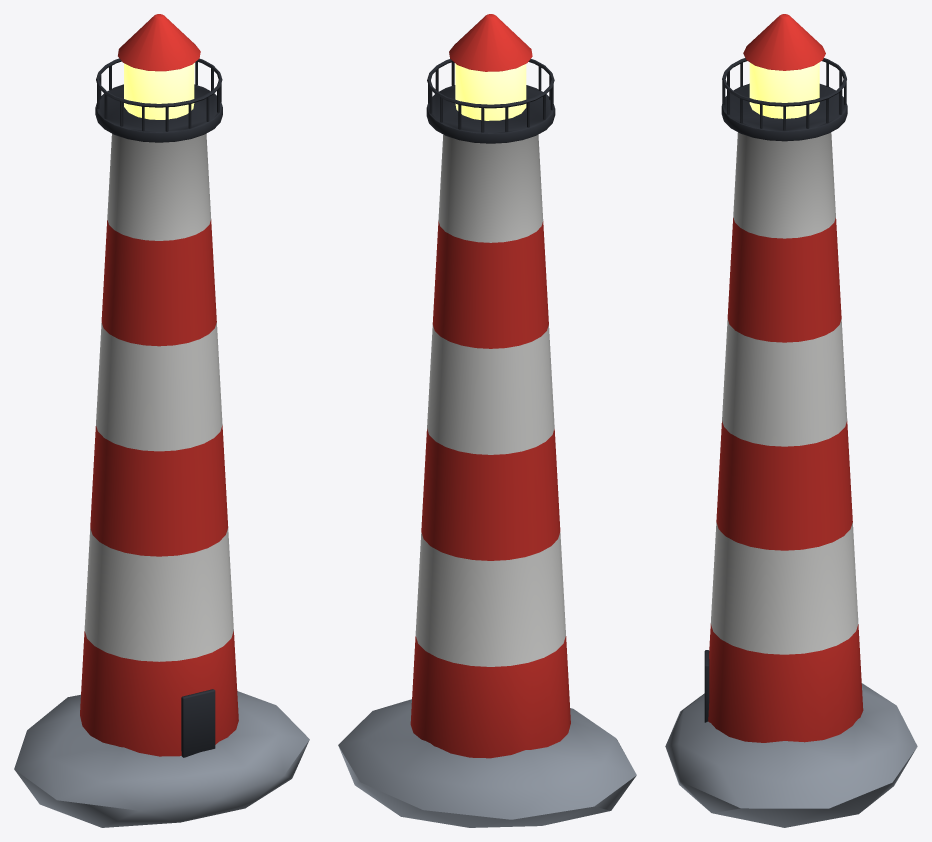
Rendered from lighthouse.glb.
3 renders of one model, left to right at view 1: azimuth 30°, elevation 25°; view 2: azimuth 150°, elevation 25°; view 3: azimuth 270°, elevation 25°, orthographic.
Visible parts, largest first — view 1: lighthouse; view 2: lighthouse; view 3: lighthouse.
Part boxes in pixels (left/top/right/bottom): lighthouse: left=14, top=14, right=309, bottom=827; lighthouse: left=338, top=14, right=636, bottom=827; lighthouse: left=665, top=14, right=917, bottom=827.
Bounding box in the file's own units: 6.19 × 18.28 × 5.4.
